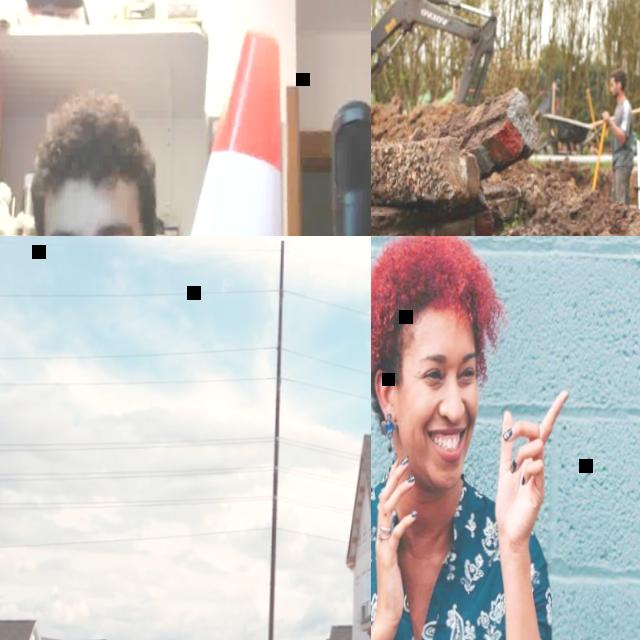NO-Hardhat: (38, 83, 149, 213), (371, 236, 491, 355), (611, 67, 627, 80)
NO-Mask: (402, 422, 474, 491), (609, 85, 617, 96)
NO-Safety Vest: (371, 482, 522, 640), (610, 100, 635, 169)
Person: (371, 236, 578, 640), (0, 86, 342, 236), (600, 67, 637, 209)
Safety Cone: (85, 28, 355, 236)
vehicle: (371, 0, 500, 170)
